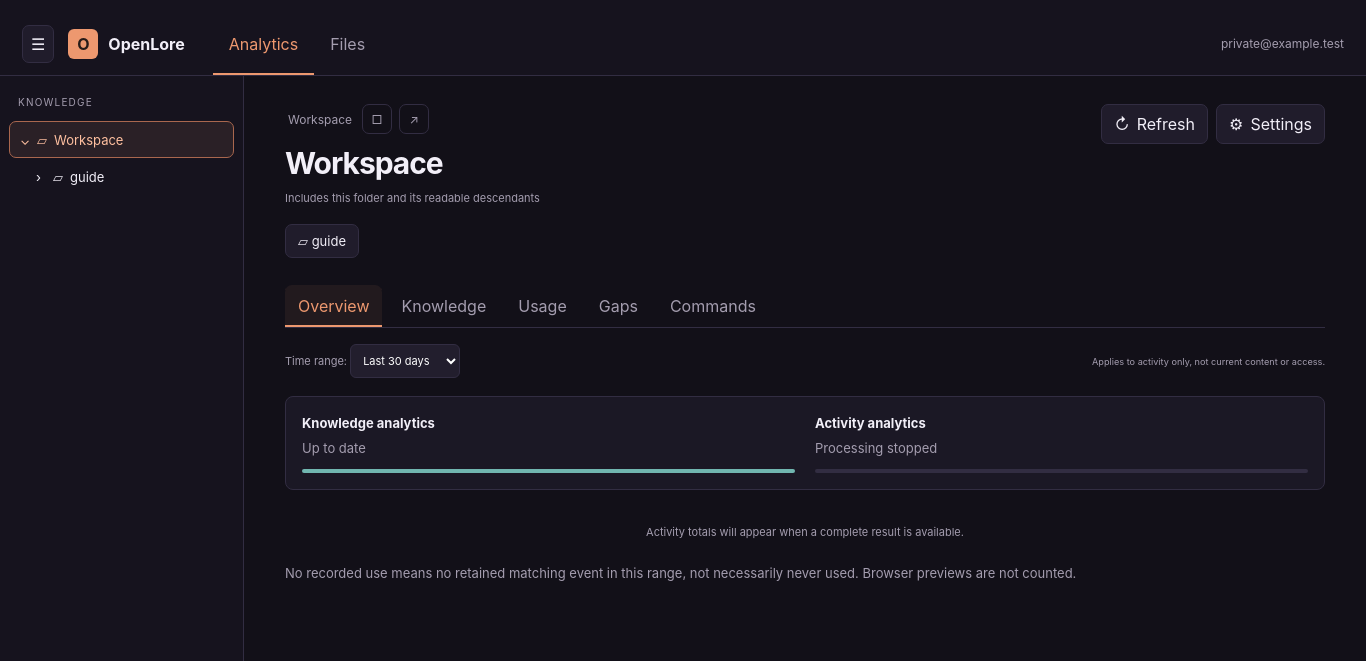
Test: failed usage with null activity stays usable until a complete result arrives
Check: the text "Activity totals will appear when a complete result is available." is shown, box [646,525,964,539]
Click the button with aria-label "Refresh analytics" at (1155, 124), box [1102,104,1208,144]
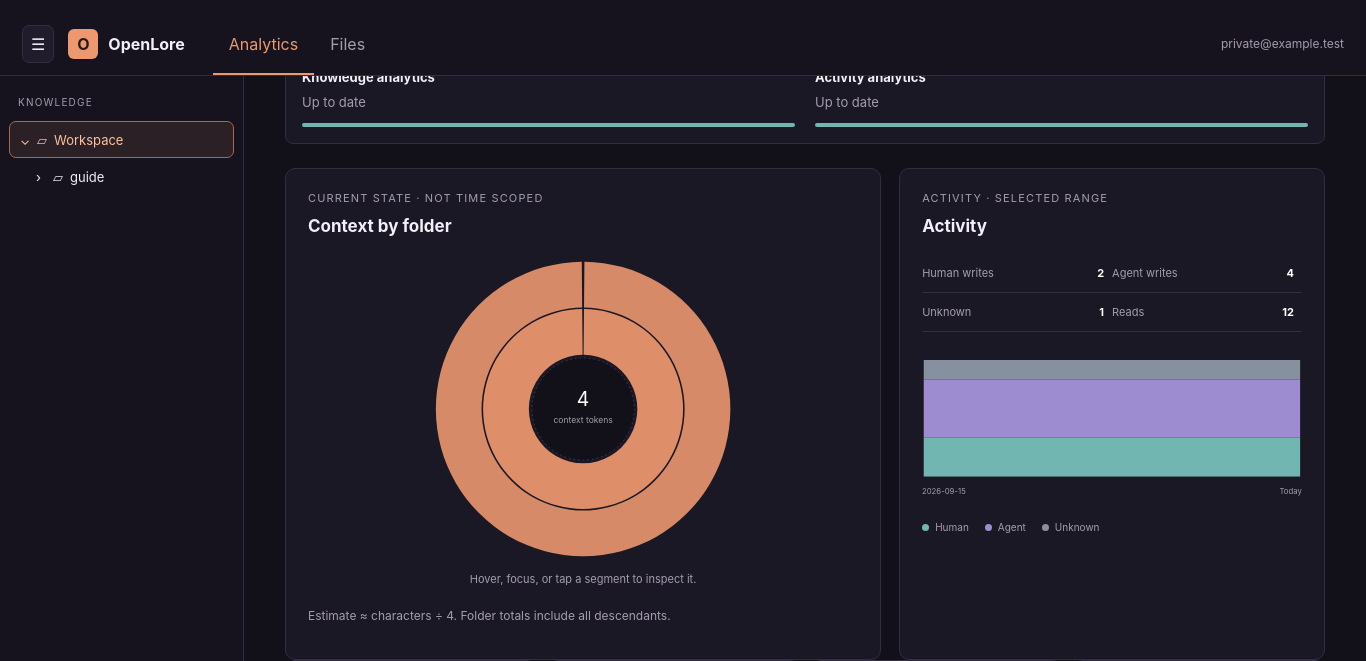
Check: the picture named "Daily activity stacked by attribution" is shown, box [922,360,1302,497]
